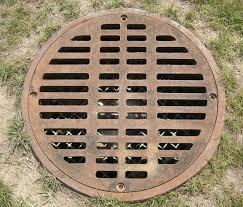open drainage-not overflowing-: (25, 9, 231, 198)
